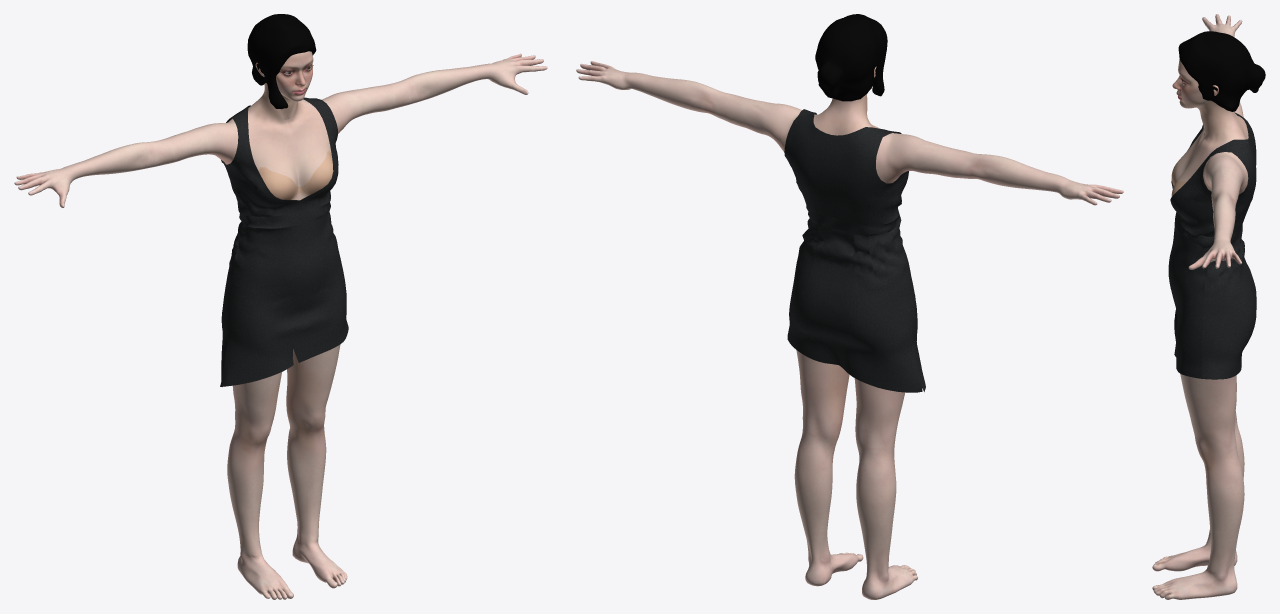
The model's file is Dynamic.obj.
3 views of the same model, side by side, from view 1: azimuth 30°, elevation 25°; view 2: azimuth 150°, elevation 25°; view 3: azimuth 270°, elevation 25° (orthographic). The views are drawn at different scales.
Bounding box in the file's own units: 1746 × 1760 × 330.
